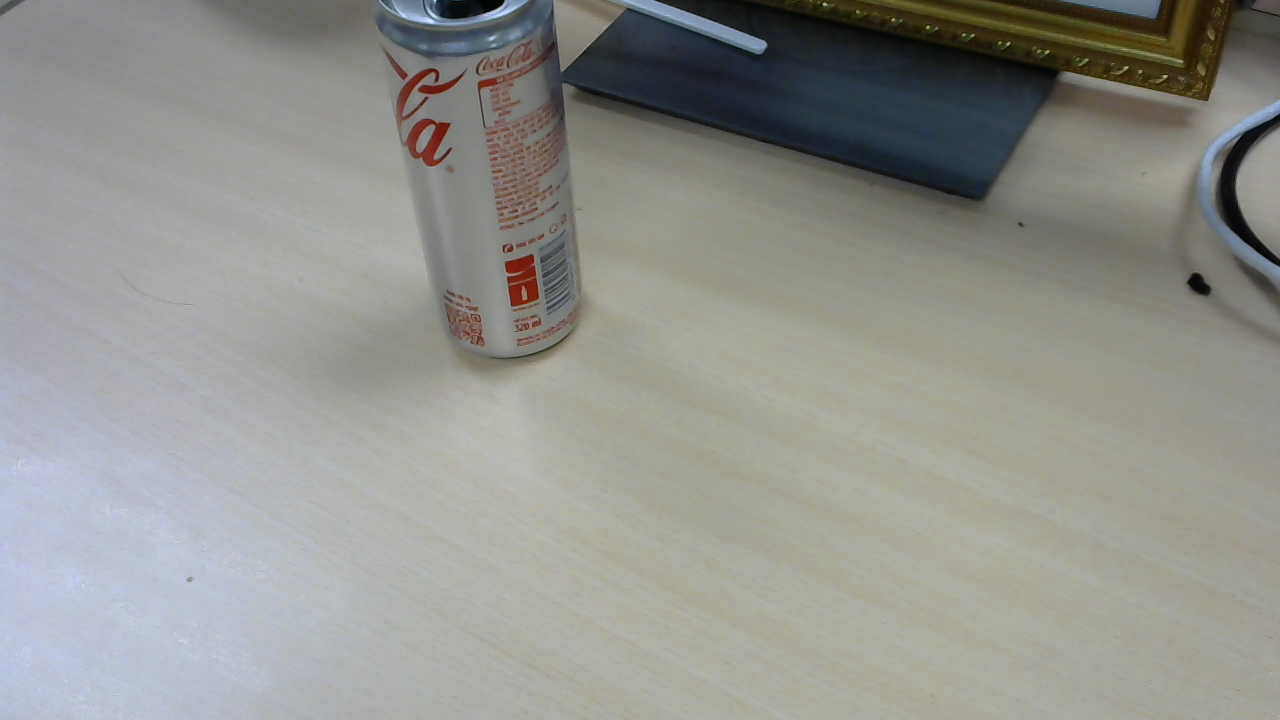Coca_Cola: (382, 4, 589, 365)
